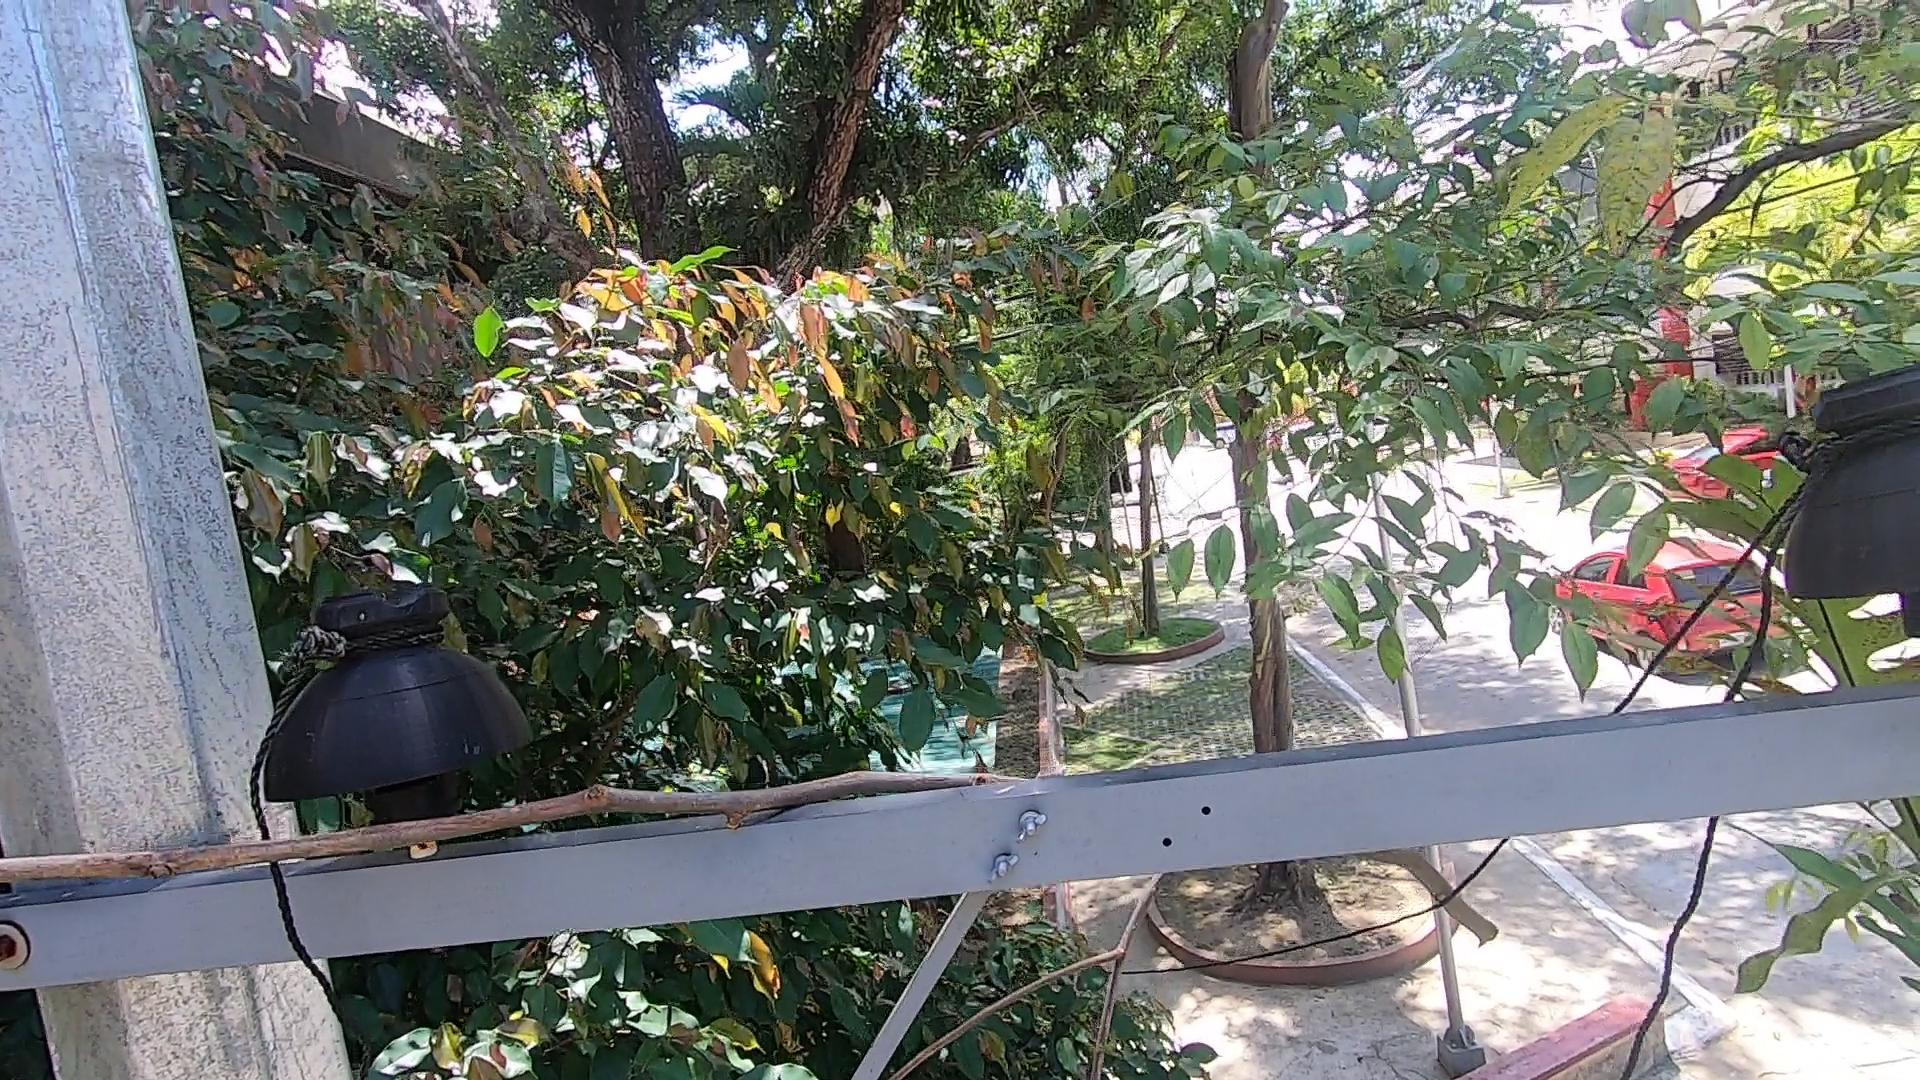tree branch: (882, 851, 1509, 1077), (1, 760, 1019, 898)
